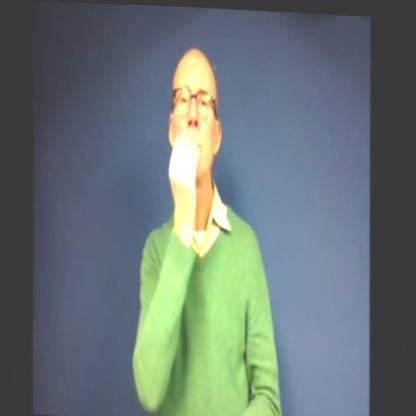Food: (151, 33, 237, 262)
